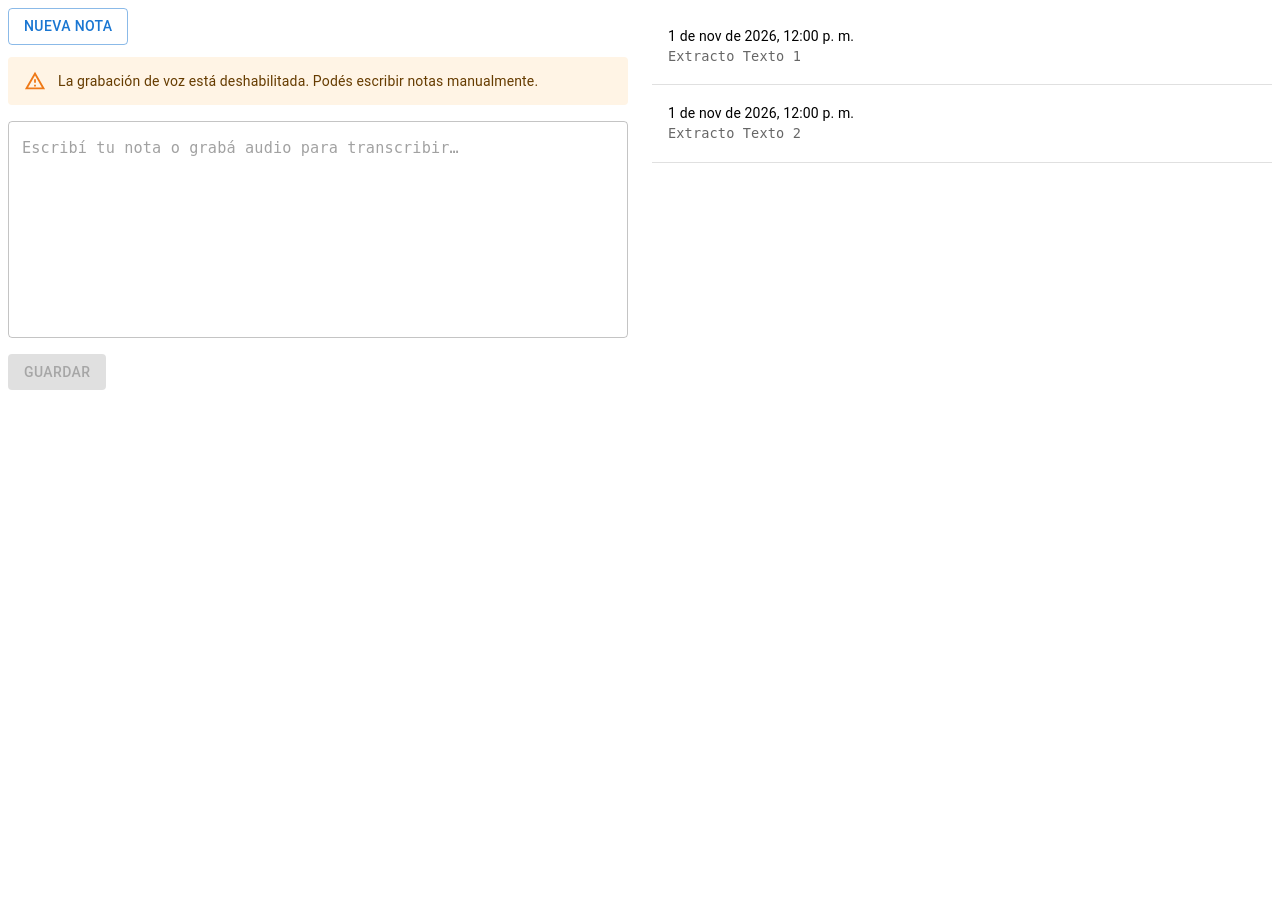
Scenario: VoicePage › cambios sin guardar al cambiar de nota (B-2) › Guardar y continuar con 409 se queda en la nota actual y abre el conflicto
Click the text "Extracto Texto 1" at (734, 56), box [668,48,801,64]
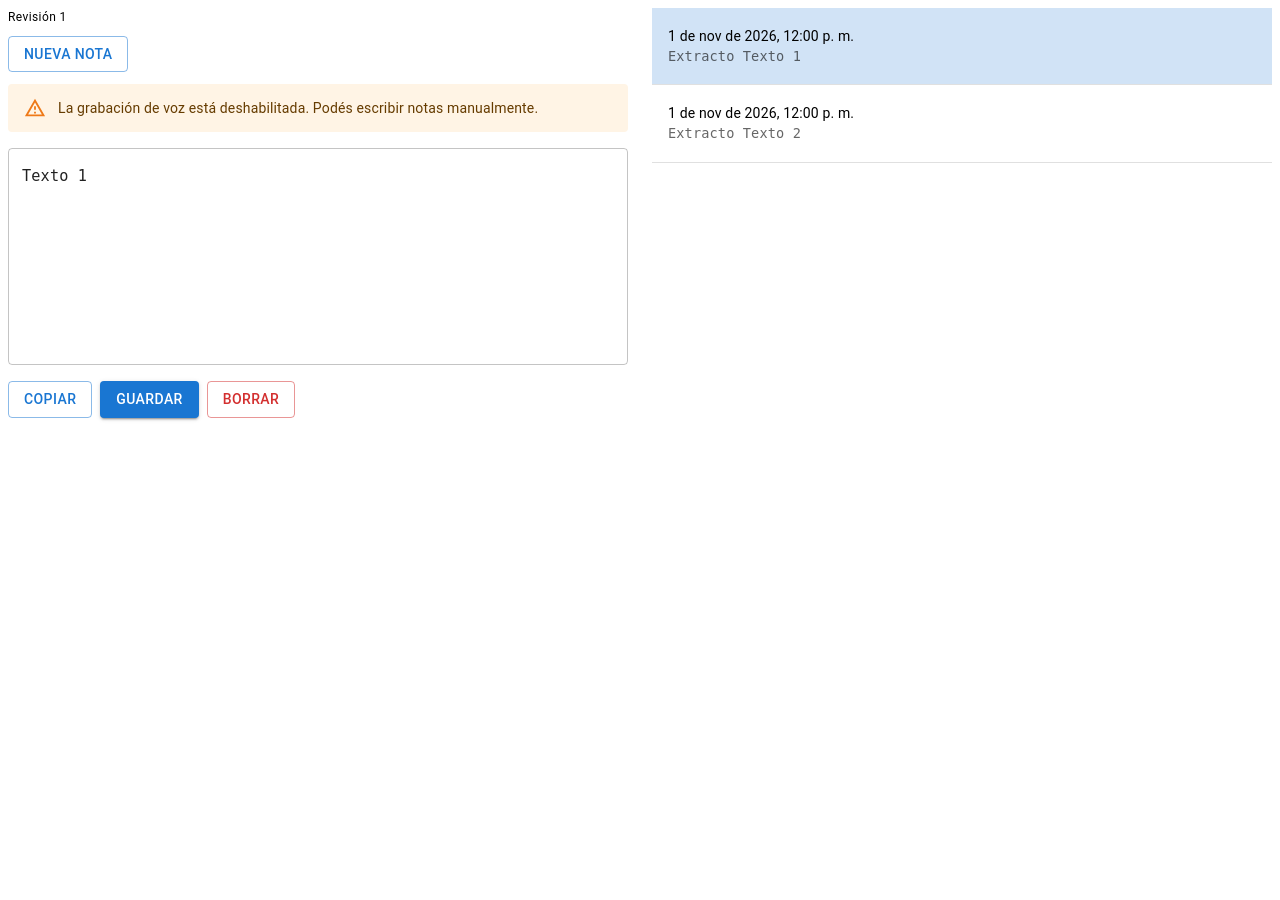
Result: the text box named "Texto de la nota" holds "Texto 1"
Type " editado" into the text box named "Texto de la nota" at (318, 257), box [22,165,614,349]
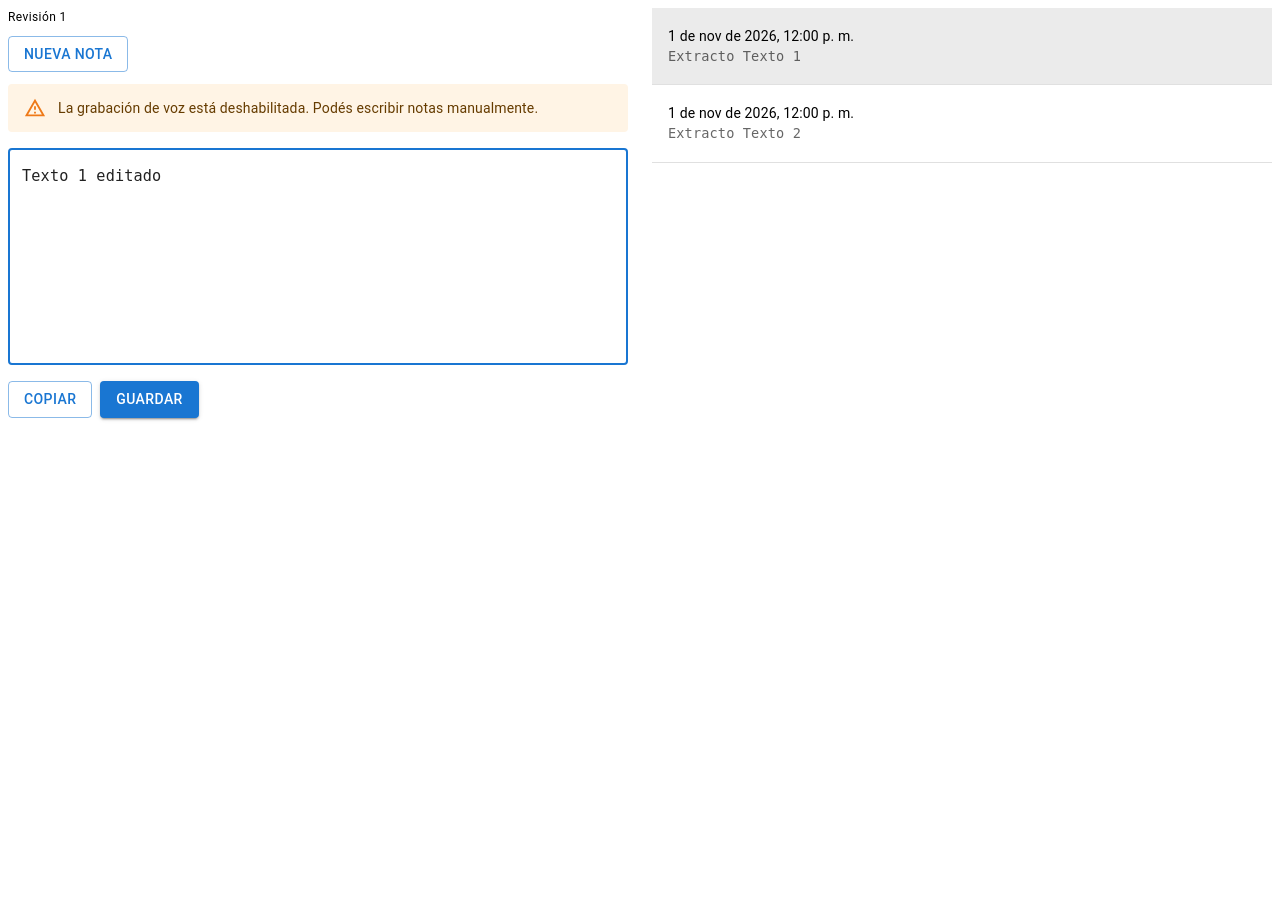
Result: the text box named "Texto de la nota" holds "Texto 1 editado" at [22,165,614,349]
Click the text "Extracto Texto 2" at (734, 133), box [668,125,801,141]
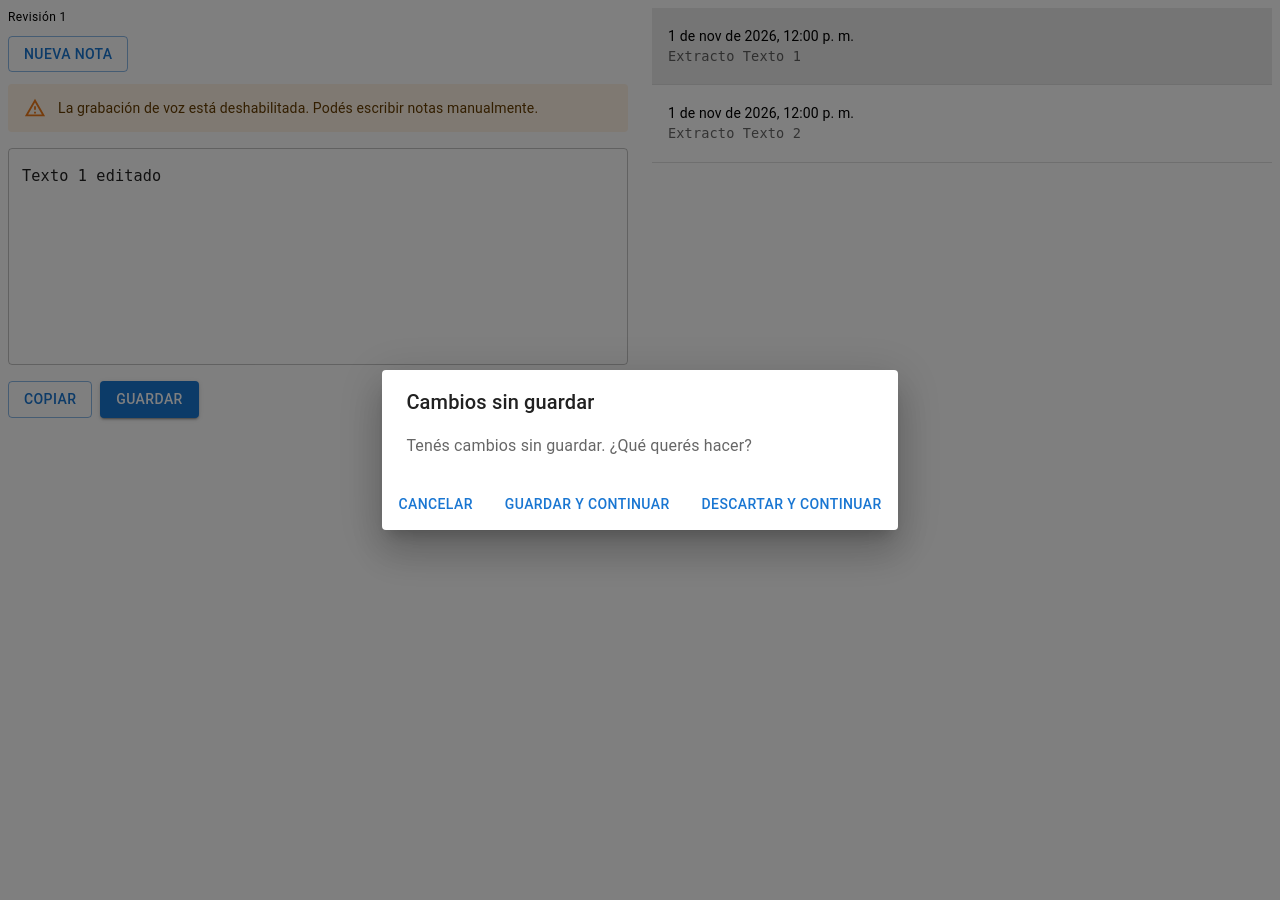
Click the button "Guardar y continuar" at (587, 504), box [497,486,678,522]
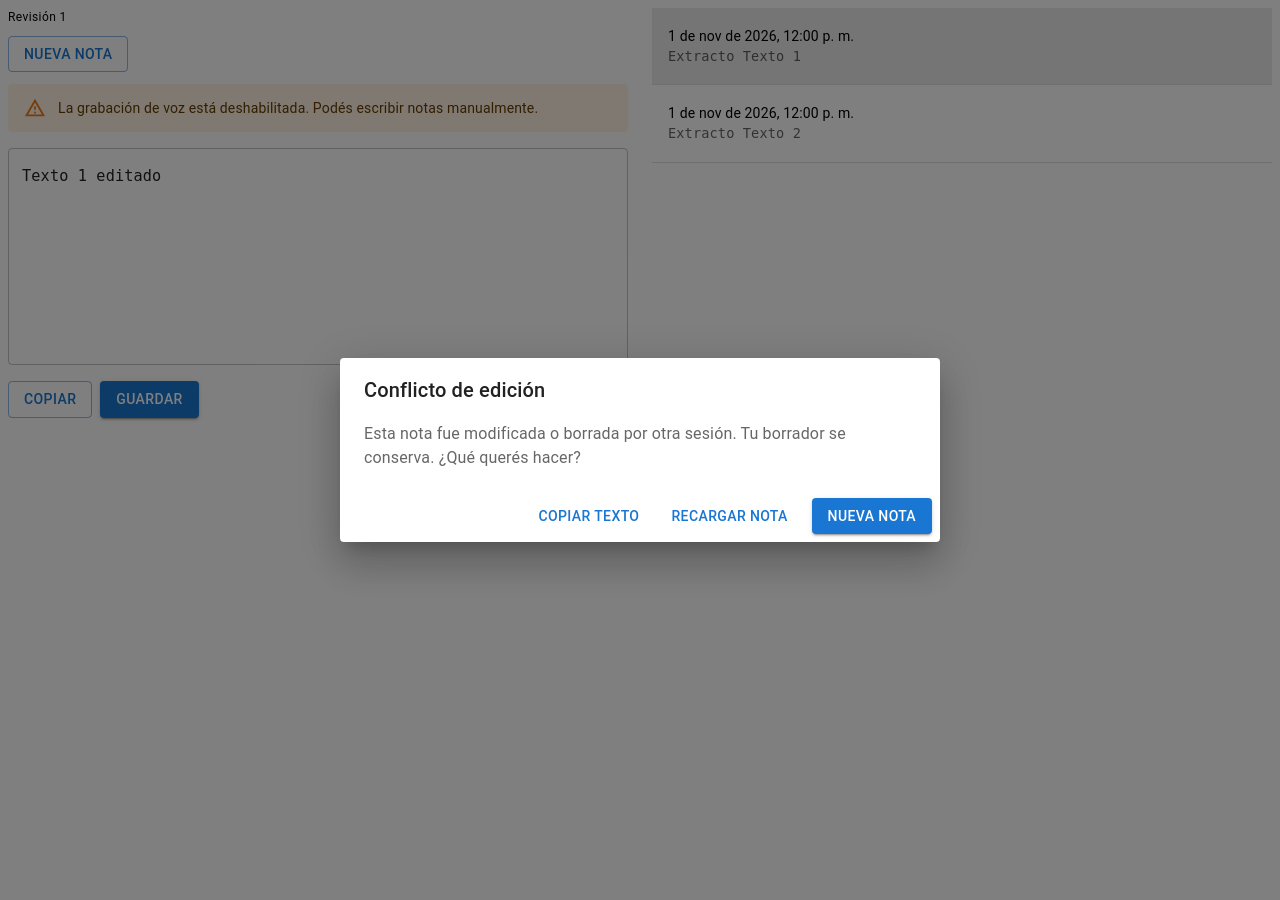
Result: the text box named "Texto de la nota" holds "Texto 1 editado" at [22,165,614,349]
Result: the dialog "Conflicto de edición" is shown at [340,358,940,542]
